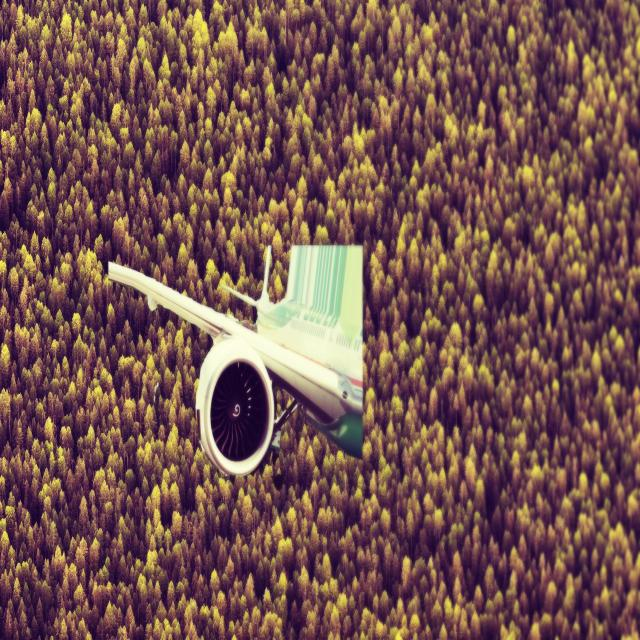airplane: (107, 241, 364, 477)
